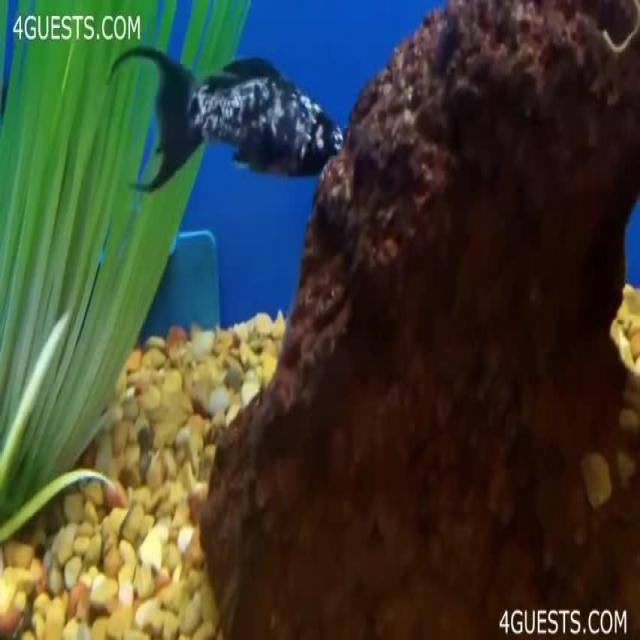PlatyFish: (102, 39, 358, 208)
